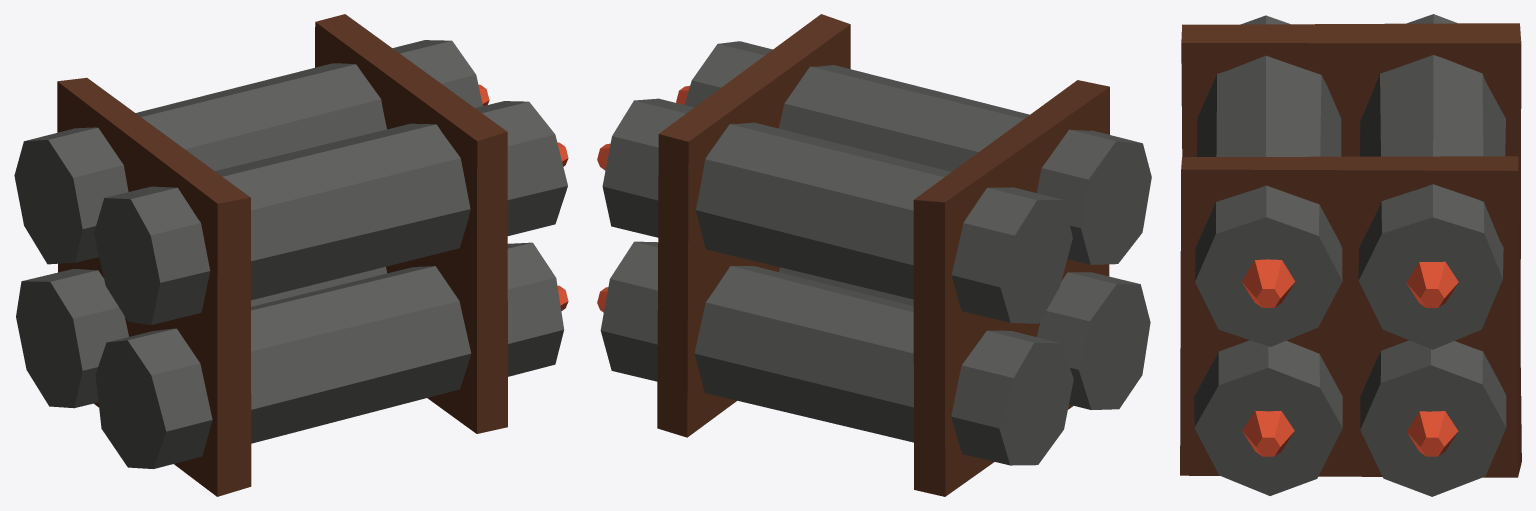
Rendered from wbar_rocket_tubes.glb.
3 views of the same model, side by side, from view 1: azimuth 30°, elevation 25°; view 2: azimuth 150°, elevation 25°; view 3: azimuth 270°, elevation 25° (orthographic). The views are drawn at different scales.
Visible parts, largest first — view 1: wbar_rocket_tubes; view 2: wbar_rocket_tubes; view 3: wbar_rocket_tubes.
Boxes of the visible parts, box(x1,y1,x2,y2) form: wbar_rocket_tubes: box(14, 14, 568, 496); wbar_rocket_tubes: box(597, 14, 1151, 496); wbar_rocket_tubes: box(1180, 14, 1521, 496).
Bounding box in the file's own units: 0.5427 × 0.353 × 0.3546.
